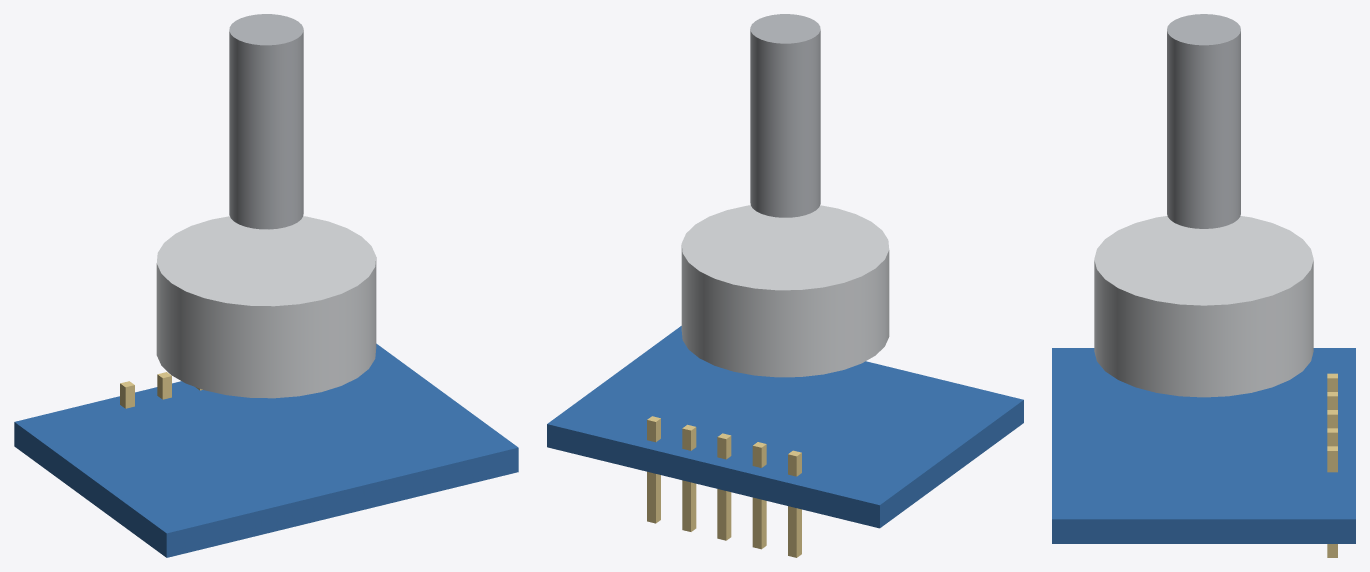
Rendered from rotary-encoder.glb.
3 views of the same model, side by side, from view 1: azimuth 30°, elevation 25°; view 2: azimuth 150°, elevation 25°; view 3: azimuth 270°, elevation 25° (orthographic). The views are drawn at different scales.
Parts seen in each view (by area): view 1: pcb, encoder-body, shaft, header; view 2: pcb, encoder-body, shaft, header; view 3: pcb, encoder-body, shaft, header.
Boxes of the visible parts, x1,y1,x2,y2 form: pcb: (14, 343, 518, 557); encoder-body: (156, 216, 376, 398); shaft: (229, 14, 303, 229); header: (120, 372, 202, 408); pcb: (547, 326, 1023, 528); encoder-body: (681, 205, 889, 377); shaft: (750, 14, 820, 217); header: (647, 416, 801, 557); pcb: (1052, 348, 1355, 543); encoder-body: (1094, 216, 1313, 397); shaft: (1167, 14, 1240, 228); header: (1327, 373, 1337, 557).
Size of the model in its own units: 0.024 by 0.032 by 0.018.
